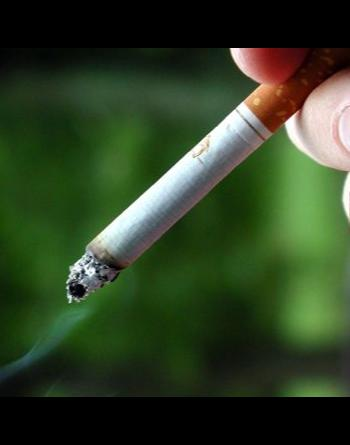Cigarette: (63, 48, 339, 302)
